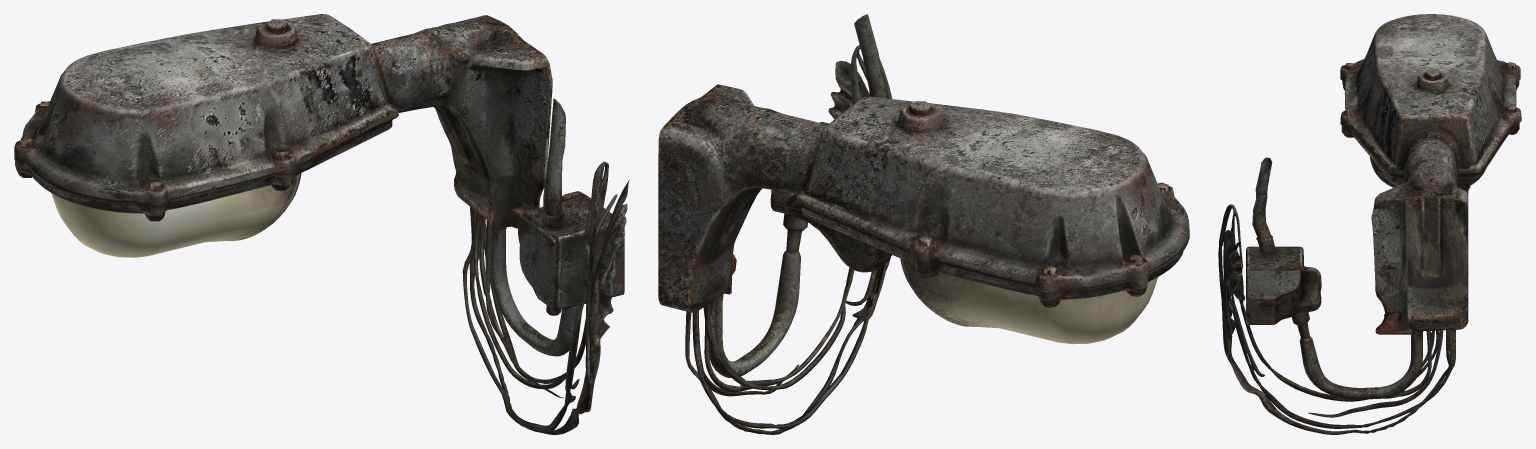
The model's file is SM_OutdoorWallLamp.fbx.
3 views of the same model, side by side, from view 1: azimuth 30°, elevation 25°; view 2: azimuth 150°, elevation 25°; view 3: azimuth 270°, elevation 25° (orthographic). The views are drawn at different scales.
Visible parts, largest first — view 1: SM_OutdoorWallLamp; view 2: SM_OutdoorWallLamp; view 3: SM_OutdoorWallLamp.
Boxes of the visible parts, box(x1,y1,x2,y2) form: SM_OutdoorWallLamp: box(14, 14, 629, 434); SM_OutdoorWallLamp: box(658, 14, 1189, 434); SM_OutdoorWallLamp: box(1218, 14, 1521, 434).
Size of the model in its own units: 0.9995 by 0.8091 by 0.7495.
